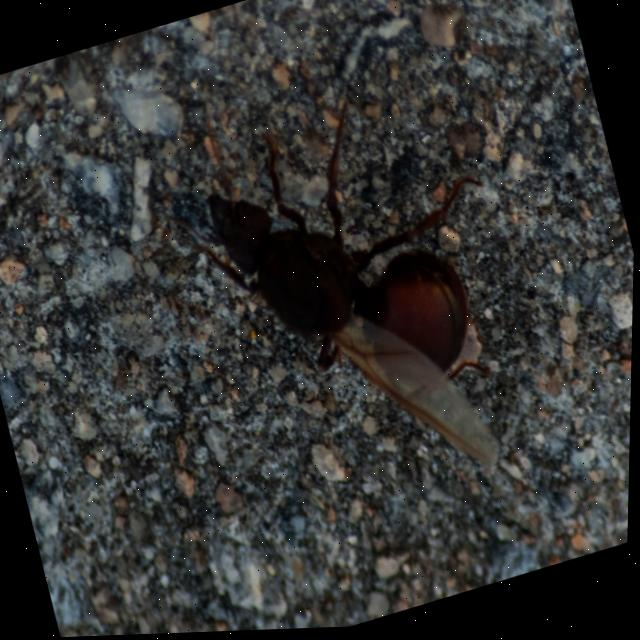Alive-Female-Alate: (135, 44, 561, 547)
